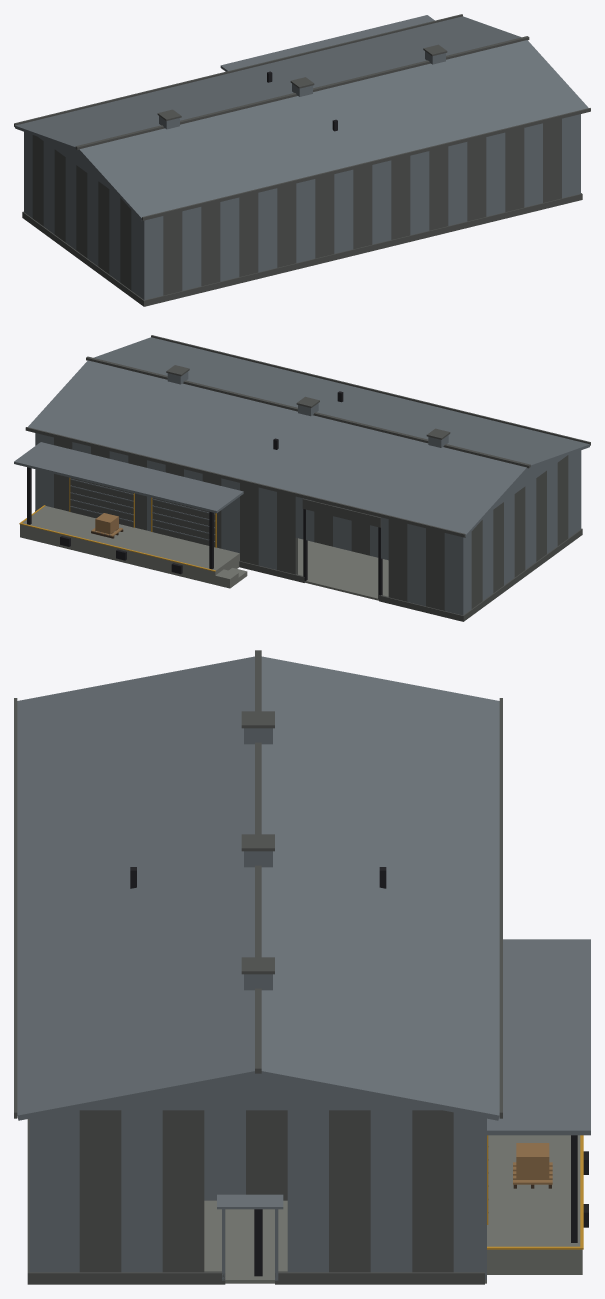
File: warehouse.glb
The picture shows the model from 3 angles, top to bottom: view 1: azimuth 30°, elevation 25°; view 2: azimuth 150°, elevation 25°; view 3: azimuth 270°, elevation 25°; orthographic projection. The views are drawn at different scales.
Visible parts, largest first — view 1: warehouse; view 2: warehouse; view 3: warehouse.
Part boxes in pixels (<box>): warehouse: <box>14,14,590,306</box>; warehouse: <box>14,335,590,621</box>; warehouse: <box>14,650,590,1284</box>.
Size of what is drawn, in the model's own units: 24.1 by 6.38 by 13.88.
Materials: 1 (1 with a texture image).
